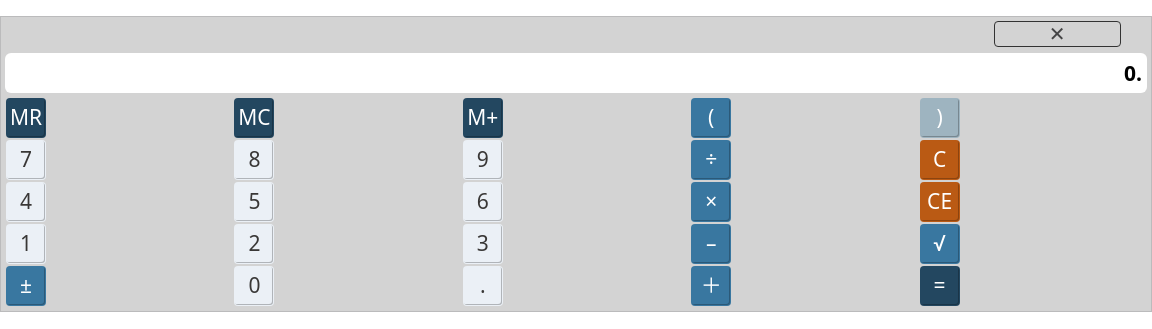
TestCalc › click inputs › should handle in-line PEMDAS
The image size is (1152, 329).
Click the button "1" at x=26, y=244, box [6,224,46,264]
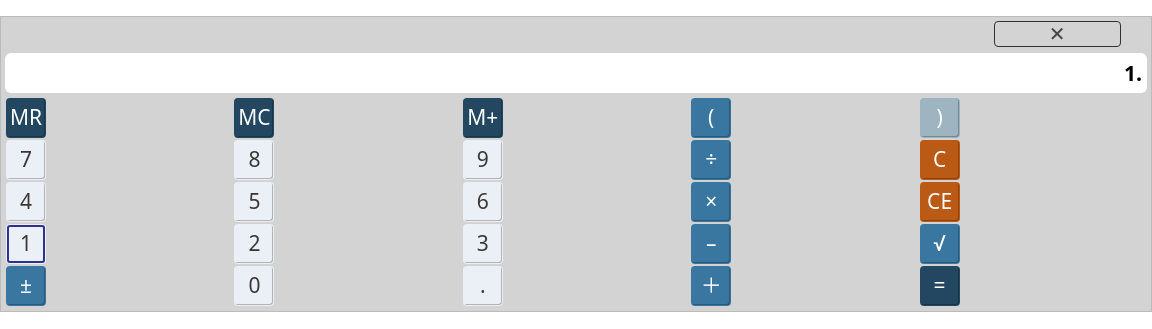
Click the button "＋" at x=711, y=286, box [691,266,731,306]
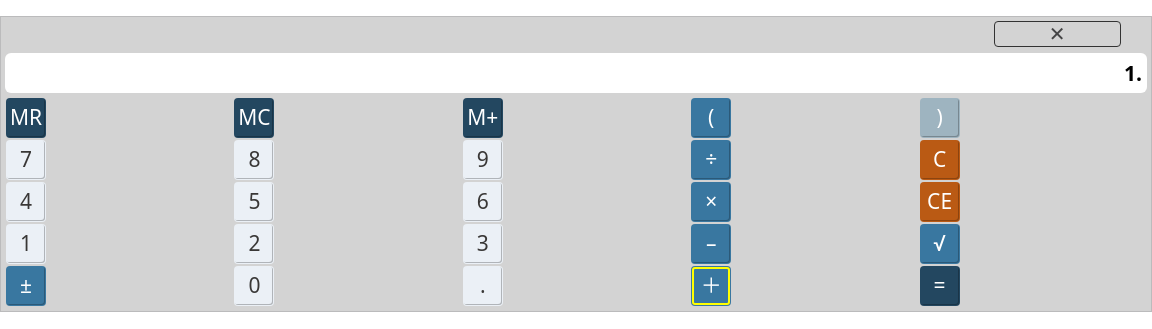
Click the button "2" at x=254, y=244, box [234,224,274,264]
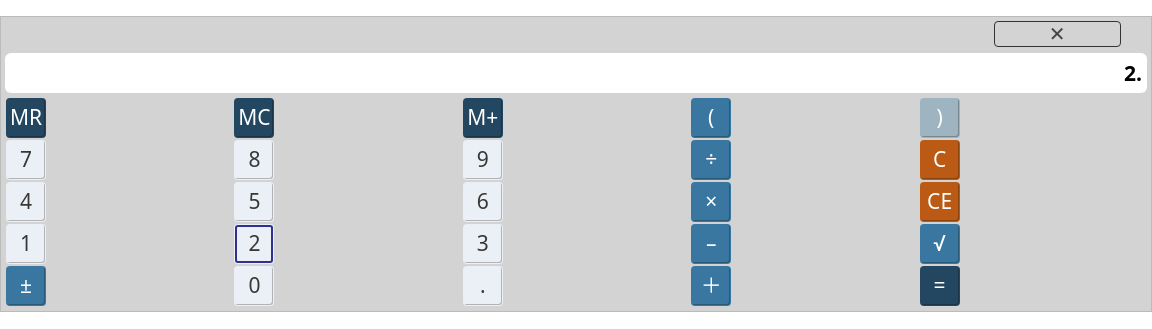
Click the button "×" at x=711, y=202, box [691,182,731,222]
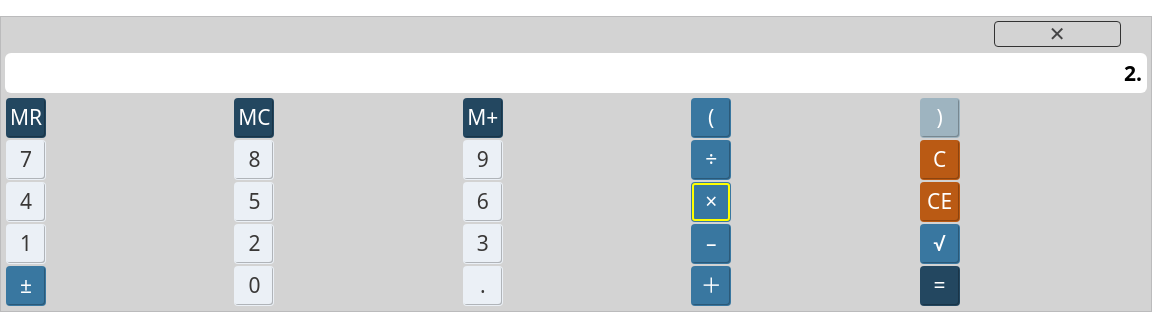
Click the button "3" at x=483, y=244, box [463,224,503,264]
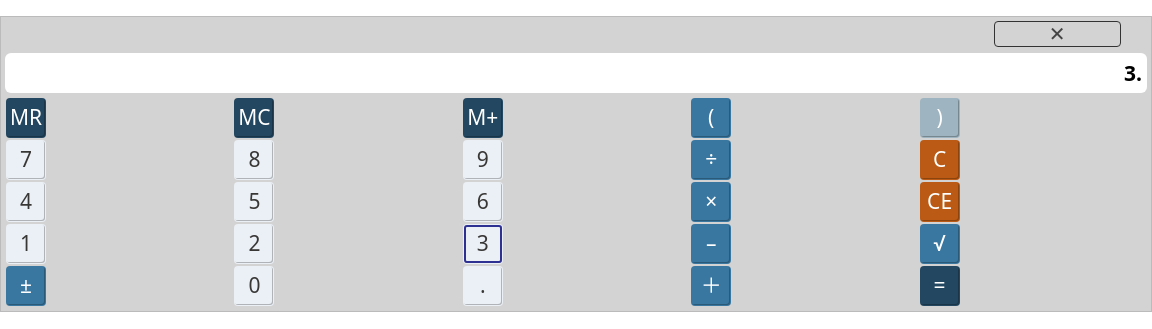
Click the button "=" at x=940, y=286, box [920,266,960,306]
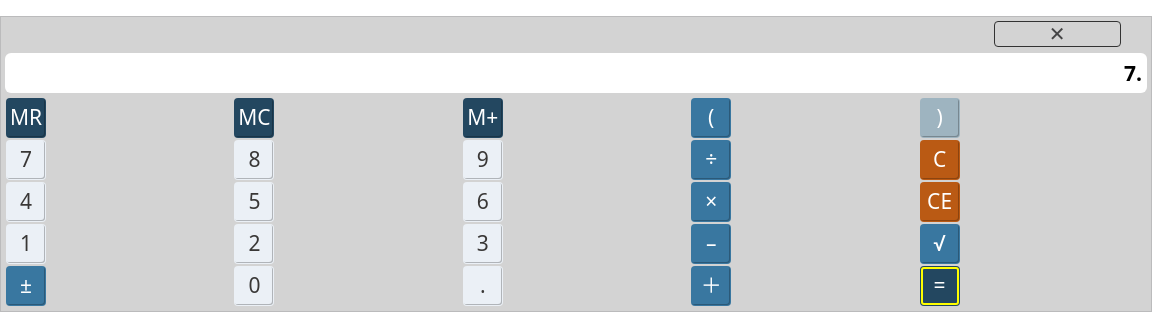
Expected: the text "7." is shown, [1124,59,1142,87]
